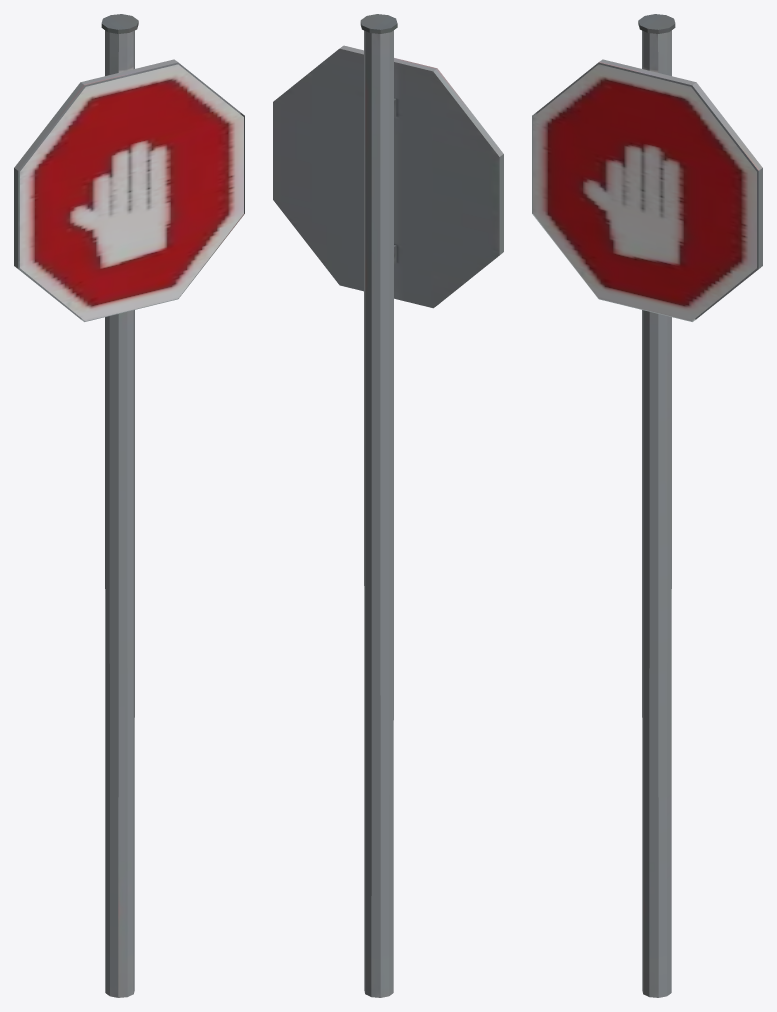
The model's file is sign_stop.glb.
The picture shows the model from 3 angles, left to right: view 1: azimuth 30°, elevation 25°; view 2: azimuth 150°, elevation 25°; view 3: azimuth 330°, elevation 25°; orthographic projection.
Parts seen in each view (by area): view 1: sign_stop_LOD0; view 2: sign_stop_LOD0; view 3: sign_stop_LOD0.
Boxes of the visible parts, x1,y1,x2,y2 form: sign_stop_LOD0: (14, 14, 244, 997); sign_stop_LOD0: (273, 14, 503, 997); sign_stop_LOD0: (532, 14, 762, 997).
Size of what is drawn, in the model's own units: 0.6602 by 2.7 by 0.1074.
Materials: 1 (1 with a texture image).
